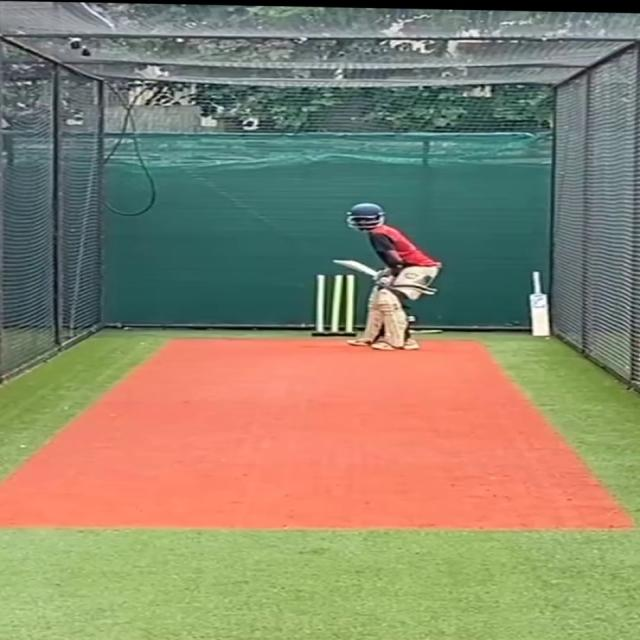stump: (312, 273, 356, 337)
